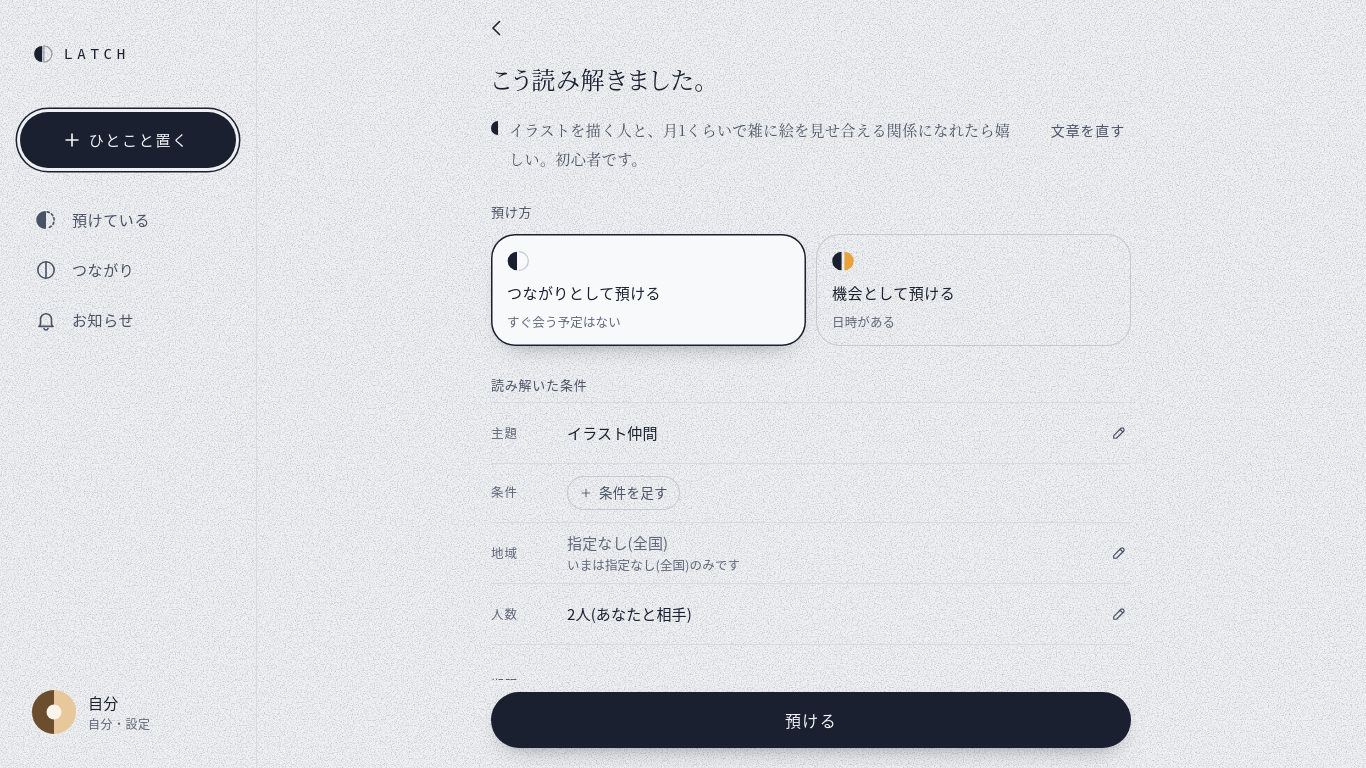
Scenario: Confirm(条件の編集) › 人数は2〜4人の範囲で編集でき・表示が替わる
The image size is (1366, 768).
What coordinates should you click on to do the following:
click the button named "人数を直す"
I would click on:
 (1119, 614)
Its box is [1097, 592, 1141, 636].
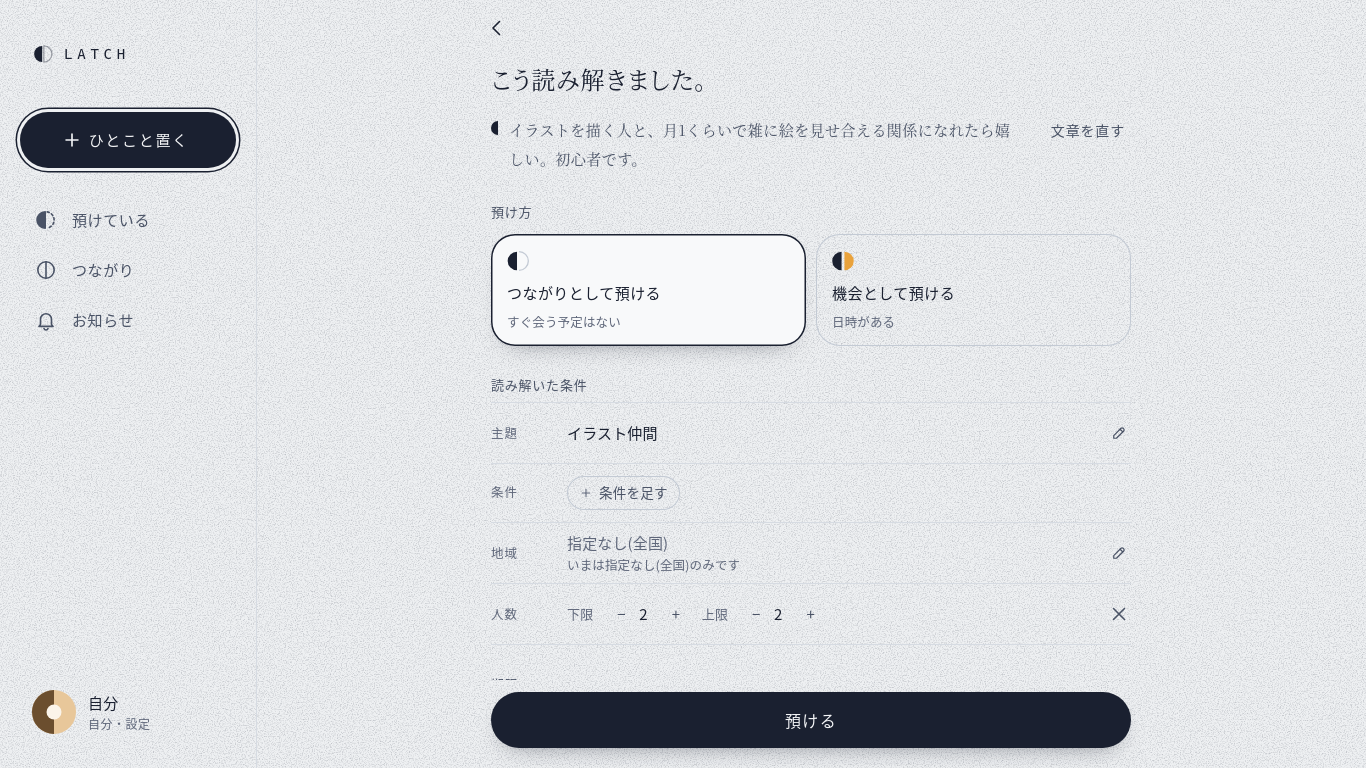
Result: the button named "下限を減らす" is disabled at [599, 592, 643, 636]
What coordinates should you click on to do the following:
click the button named "上限を増やす"
I would click on:
 (811, 614)
Its box is [789, 592, 833, 636].
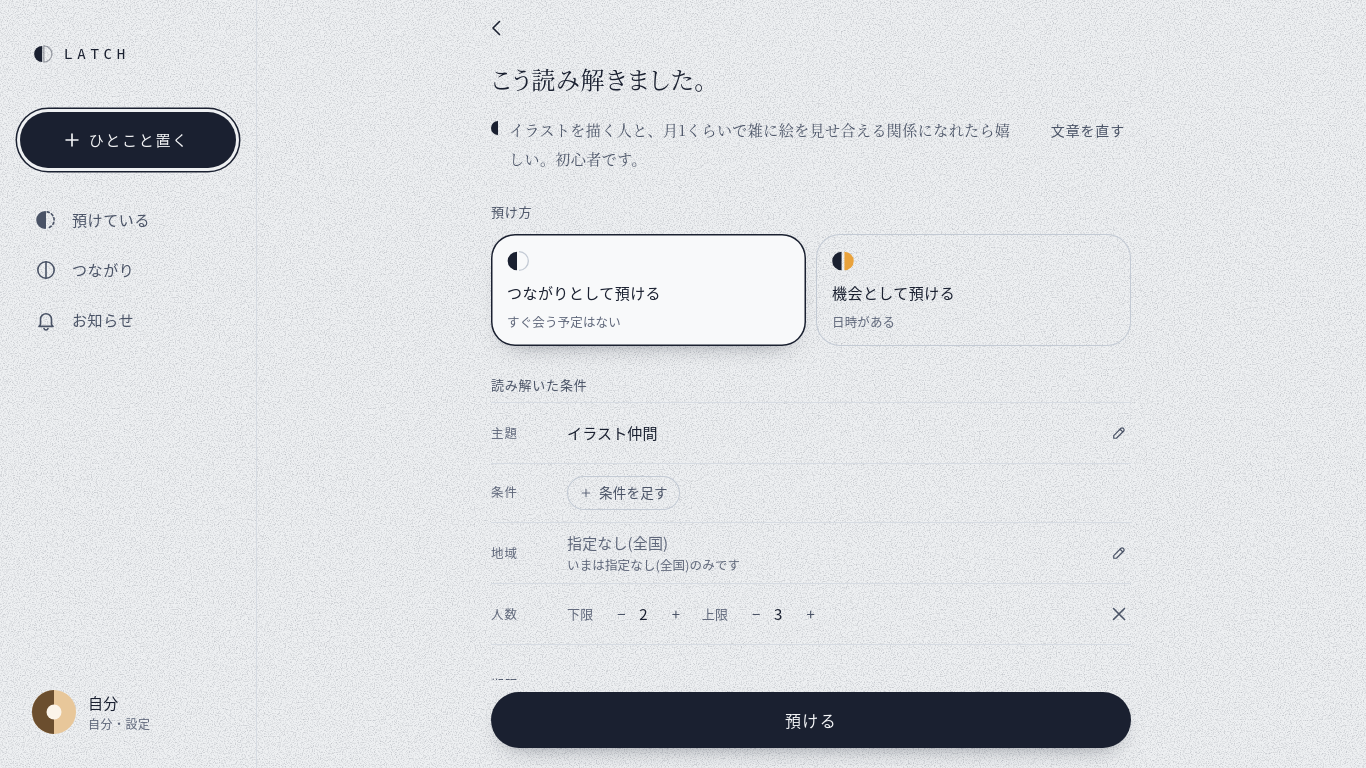
What coordinates should you click on to do the following:
click the button named "人数を閉じる"
I would click on:
 (1119, 614)
Its box is [1097, 592, 1141, 636].
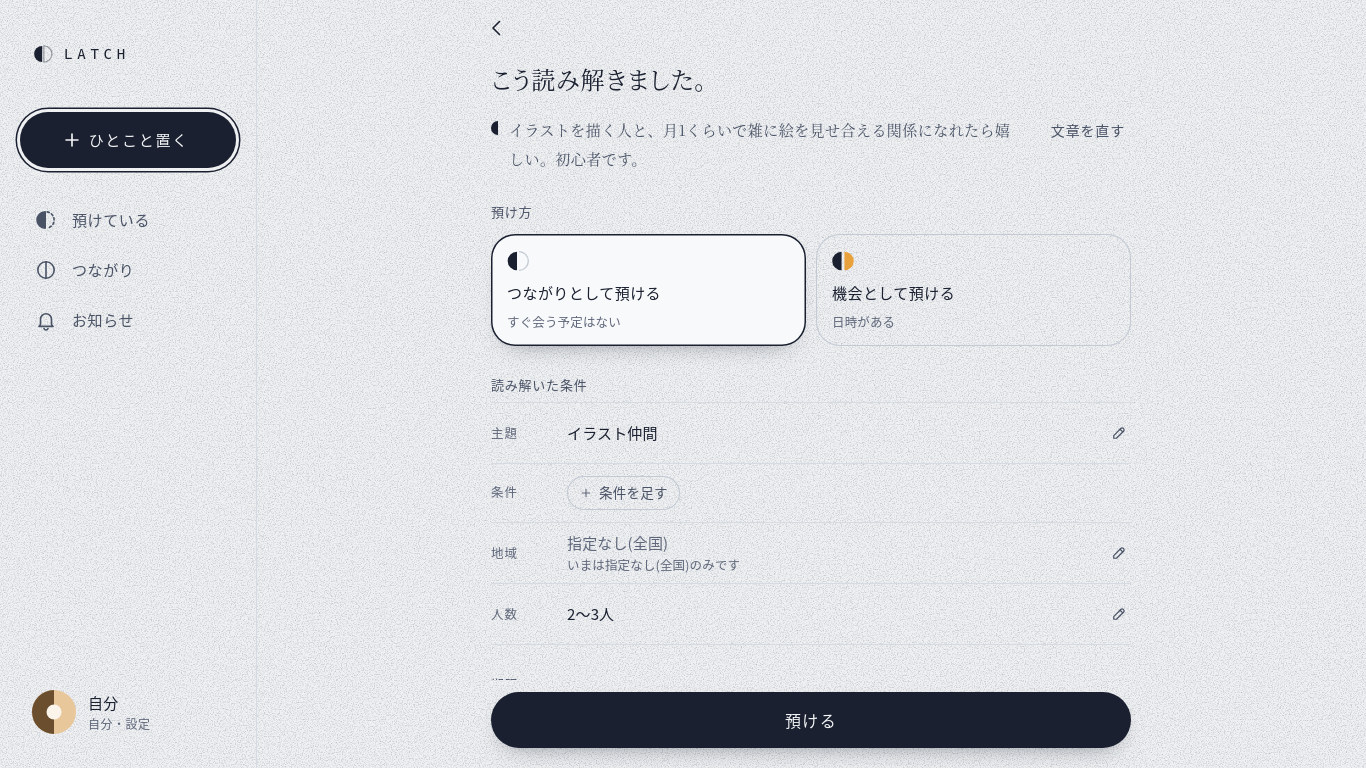
Result: the text "2〜3人" is shown at [567, 603, 614, 624]
What coordinates should you click on to do the following:
click the button named "人数を直す"
I would click on:
 (1119, 614)
Its box is [1097, 592, 1141, 636].
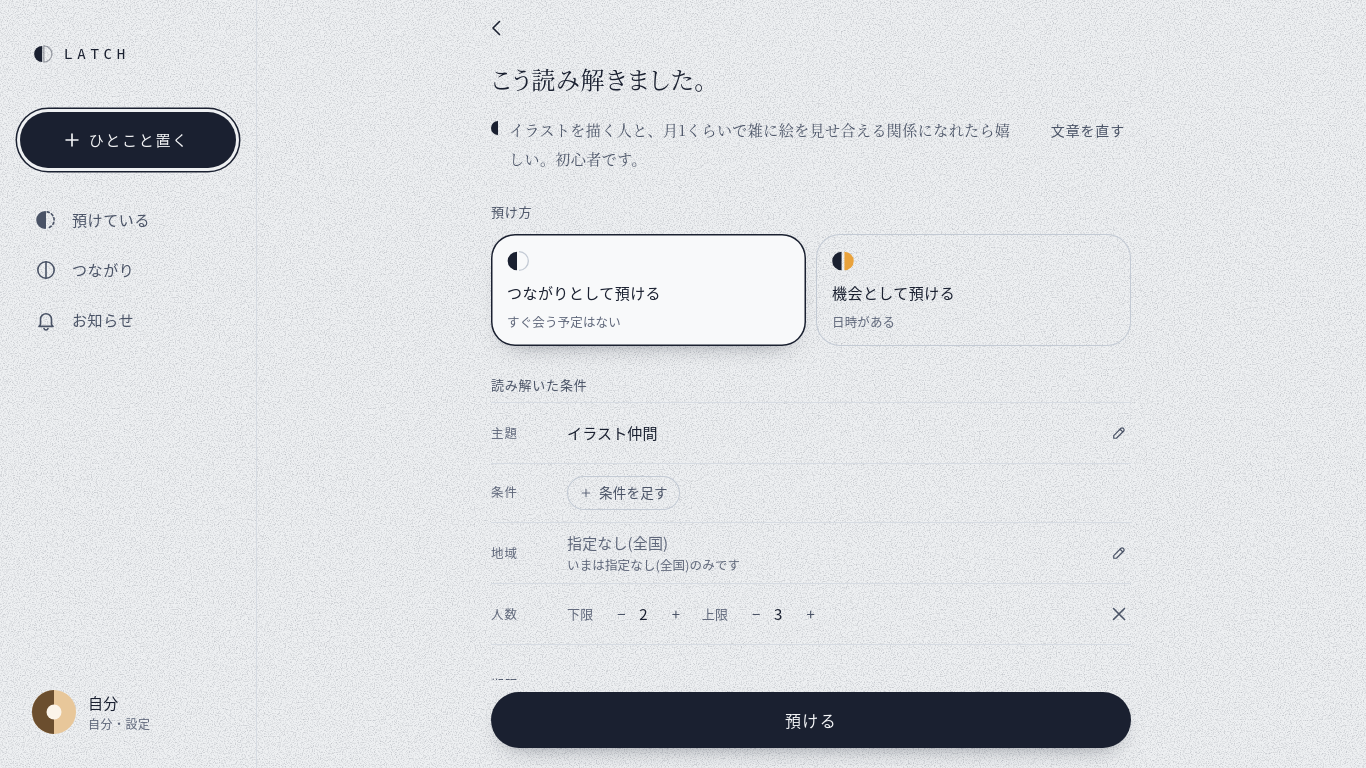
What coordinates should you click on to do the following:
click the button named "上限を増やす"
I would click on:
 (811, 614)
Its box is [789, 592, 833, 636].
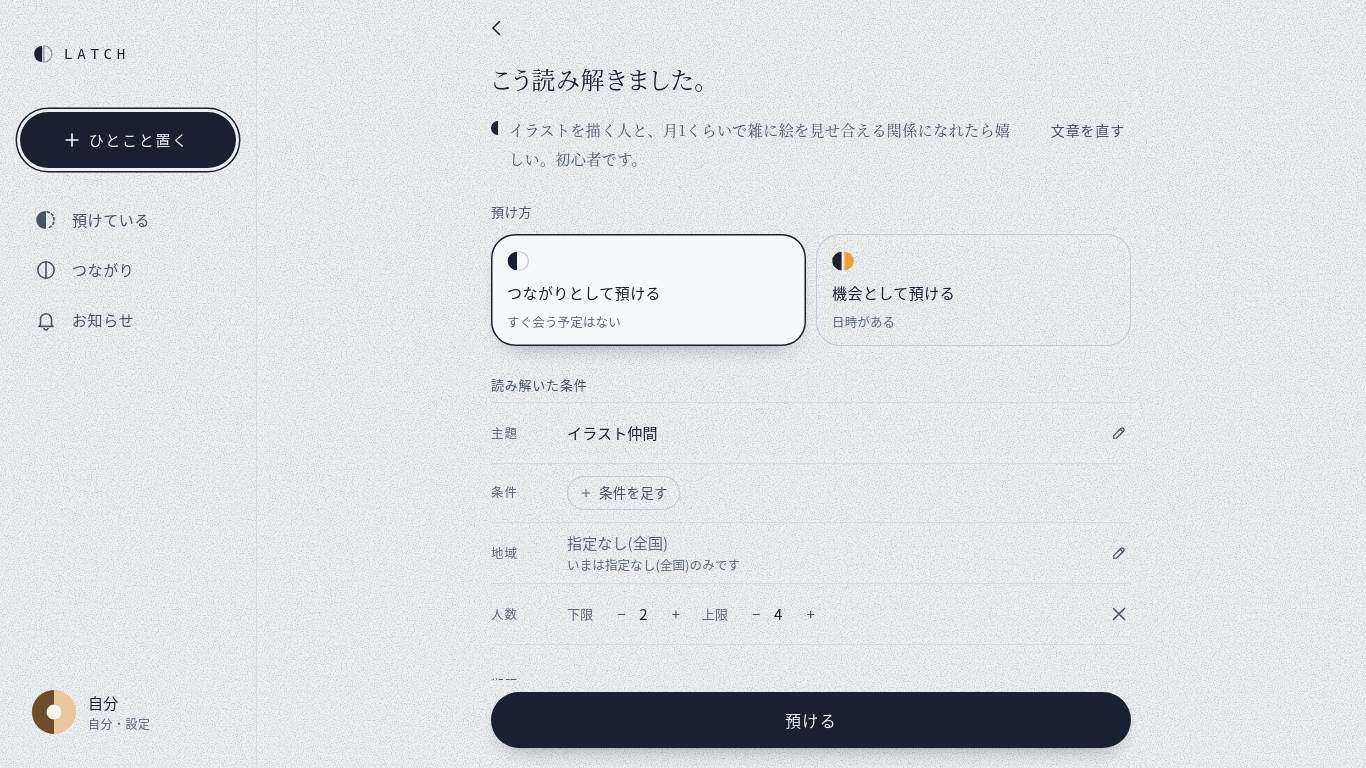
What coordinates should you click on to do the following:
click the button named "人数を閉じる"
I would click on:
 (1119, 614)
Its box is [1097, 592, 1141, 636].
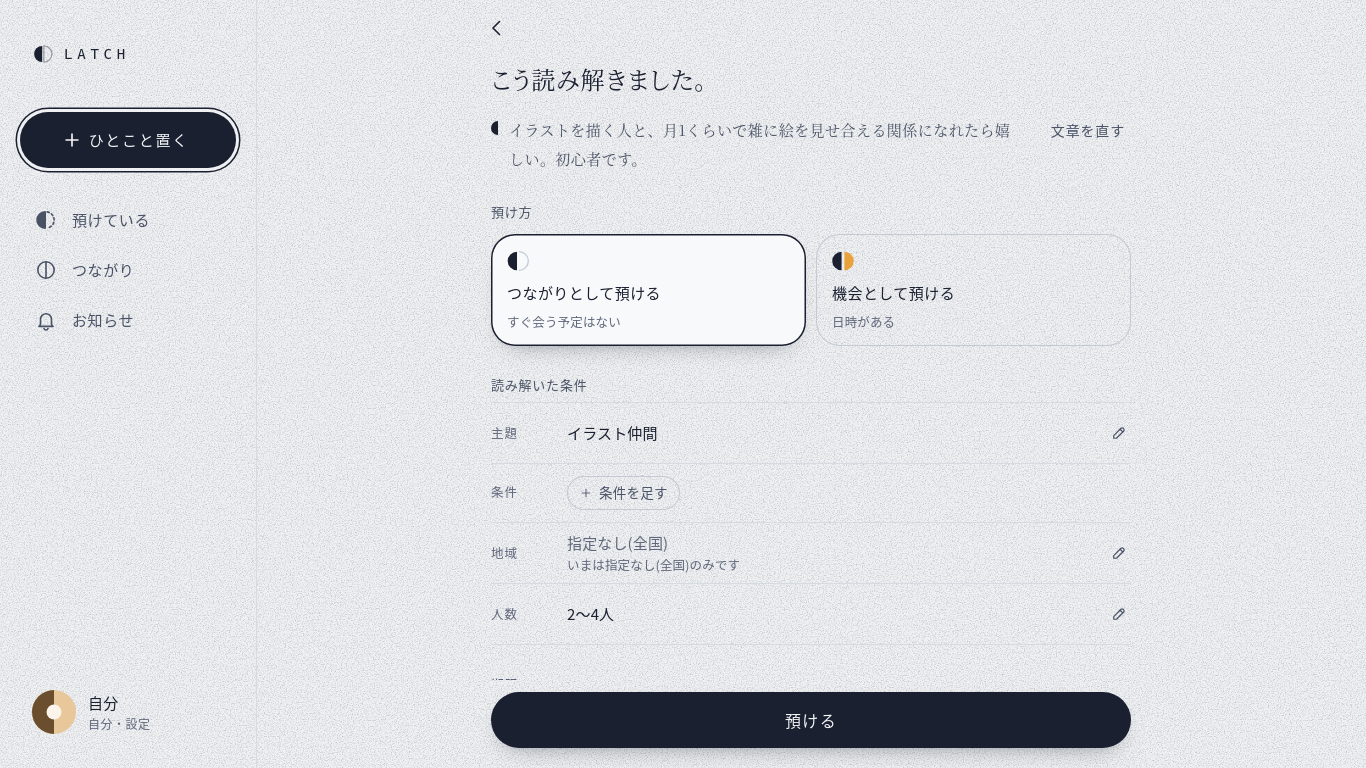
Result: the text "2〜4人" is shown at [567, 603, 614, 624]
